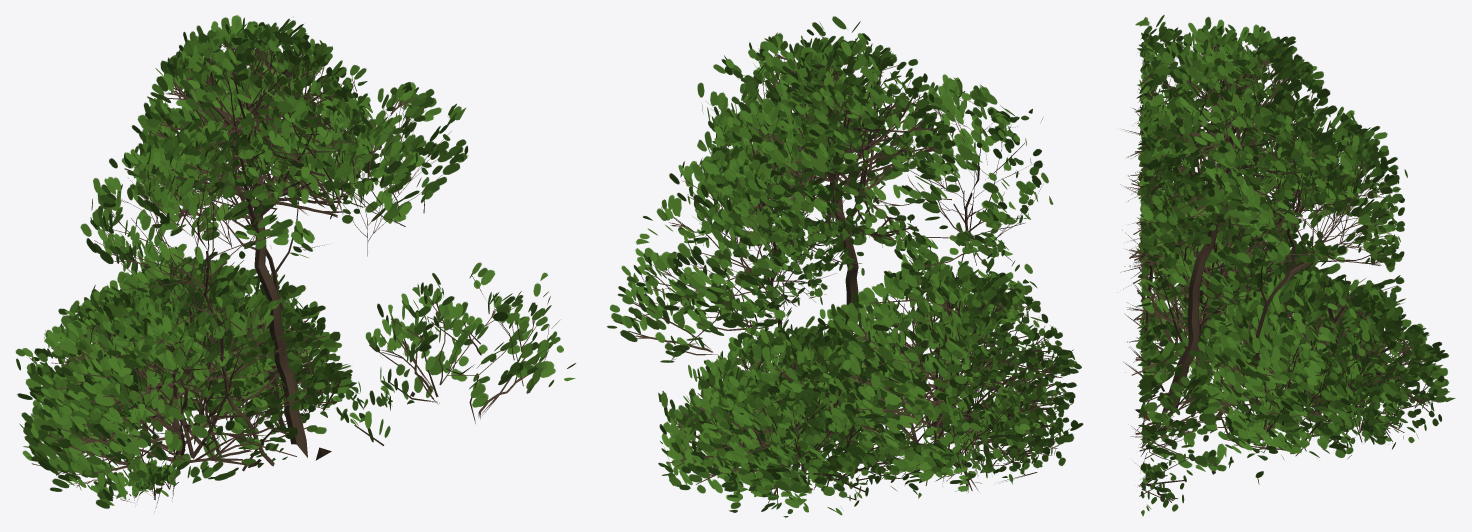
3 renders of one model, left to right at view 1: azimuth 30°, elevation 25°; view 2: azimuth 150°, elevation 25°; view 3: azimuth 270°, elevation 25°, orthographic. The views are drawn at different scales.
Parts seen in each view (by area): view 1: oak 01.001_trunk_Mat.001_0.218; view 2: oak 01.001_trunk_Mat.001_0.218; view 3: oak 01.001_trunk_Mat.001_0.218.
Boxes of the visible parts, x1,y1,x2,y2 form: oak 01.001_trunk_Mat.001_0.218: (15,15,575,508); oak 01.001_trunk_Mat.001_0.218: (607,16,1083,517); oak 01.001_trunk_Mat.001_0.218: (1120,15,1455,516).
Size of the model in its own units: 4.14 by 3.38 by 2.58.
Materials: 2 (1 with a texture image).
